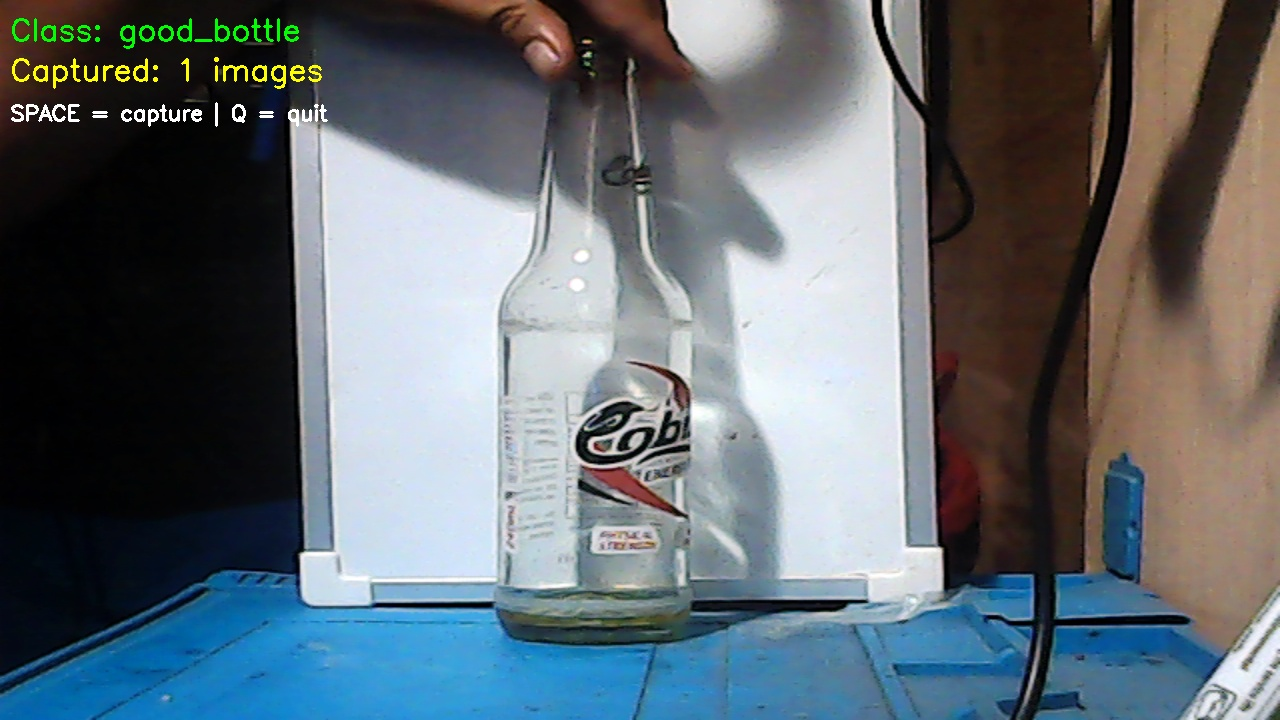good_bottle: (456, 30, 740, 656)
